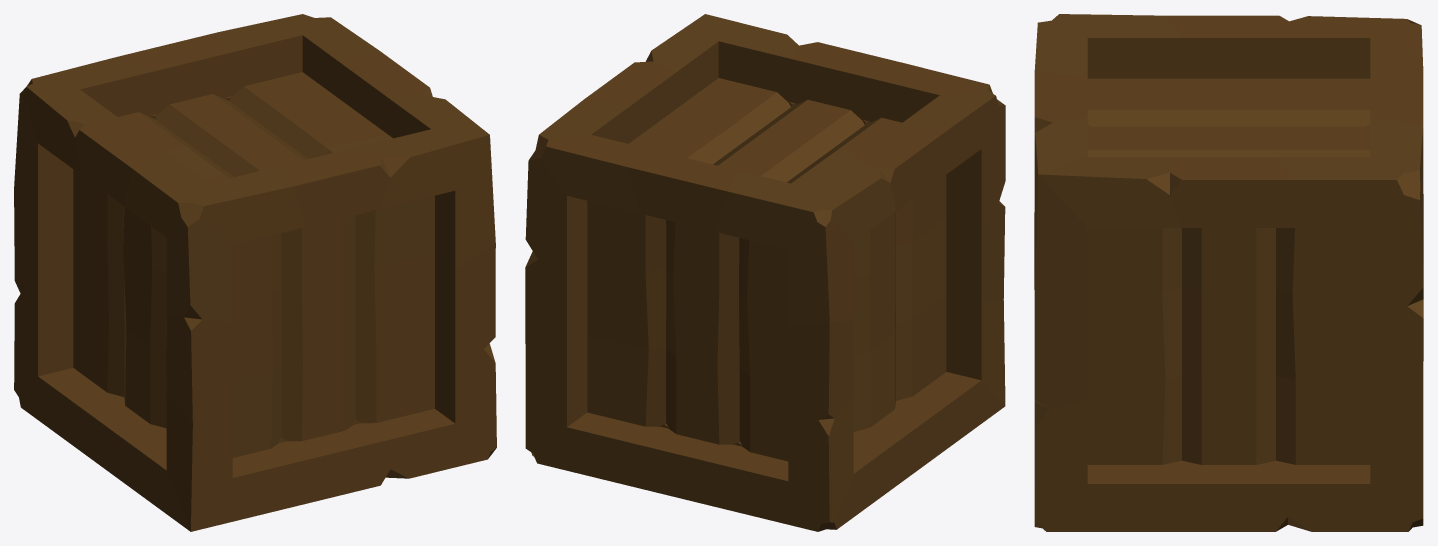
Rendered from Crate.fbx.
The picture shows the model from 3 angles, left to right: view 1: azimuth 30°, elevation 25°; view 2: azimuth 150°, elevation 25°; view 3: azimuth 270°, elevation 25°; orthographic projection. The views are drawn at different scales.
Parts seen in each view (by area): view 1: Crate; view 2: Crate; view 3: Crate.
Boxes of the visible parts, x1,y1,x2,y2 form: Crate: (14,14,496,531); Crate: (525,14,1005,531); Crate: (1034,14,1423,531).
Size of the model in its own units: 121 by 121 by 120.
